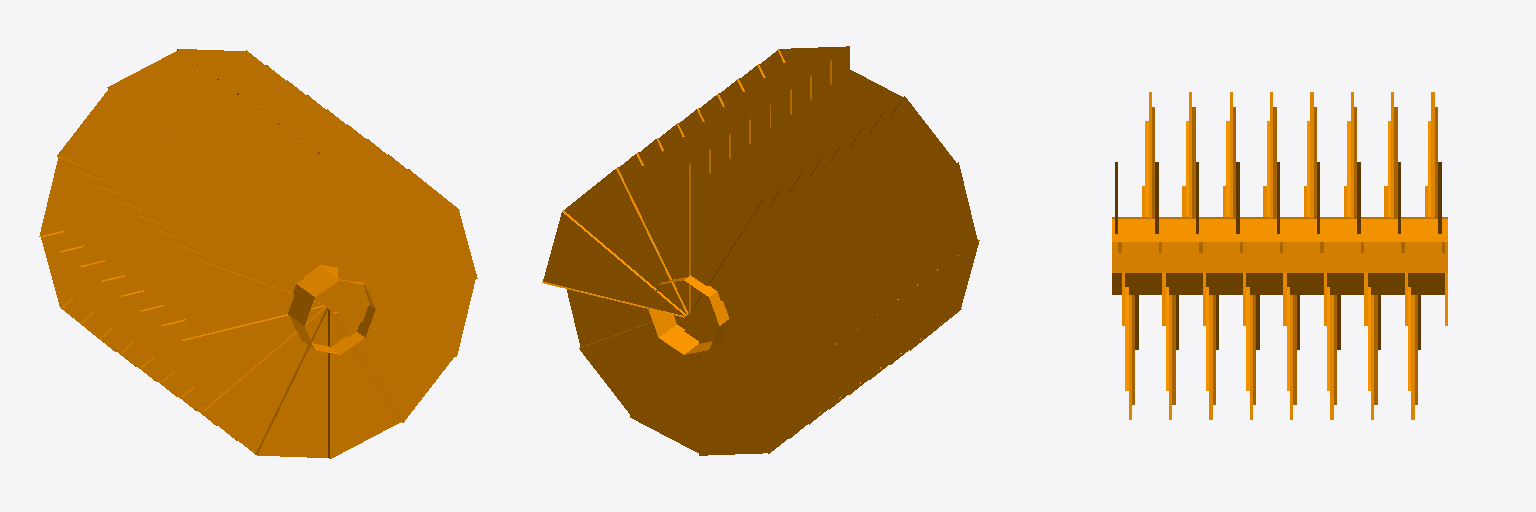
The model's file is colim_sup_public_accessible_tri.obj.
The picture shows the model from 3 angles: view 1: azimuth 30°, elevation 25°; view 2: azimuth 150°, elevation 25°; view 3: azimuth 270°, elevation 25°; orthographic projection.
Visible parts, largest first — view 1: colim_sup_public_accessible_tri_0; view 2: colim_sup_public_accessible_tri_0; view 3: colim_sup_public_accessible_tri_0.
Boxes of the visible parts, <box> form: colim_sup_public_accessible_tri_0: <box>39,49,477,458</box>; colim_sup_public_accessible_tri_0: <box>542,46,979,455</box>; colim_sup_public_accessible_tri_0: <box>1112,92,1447,419</box>.
Bounding box in the file's own units: 9.79 × 9.79 × 10.